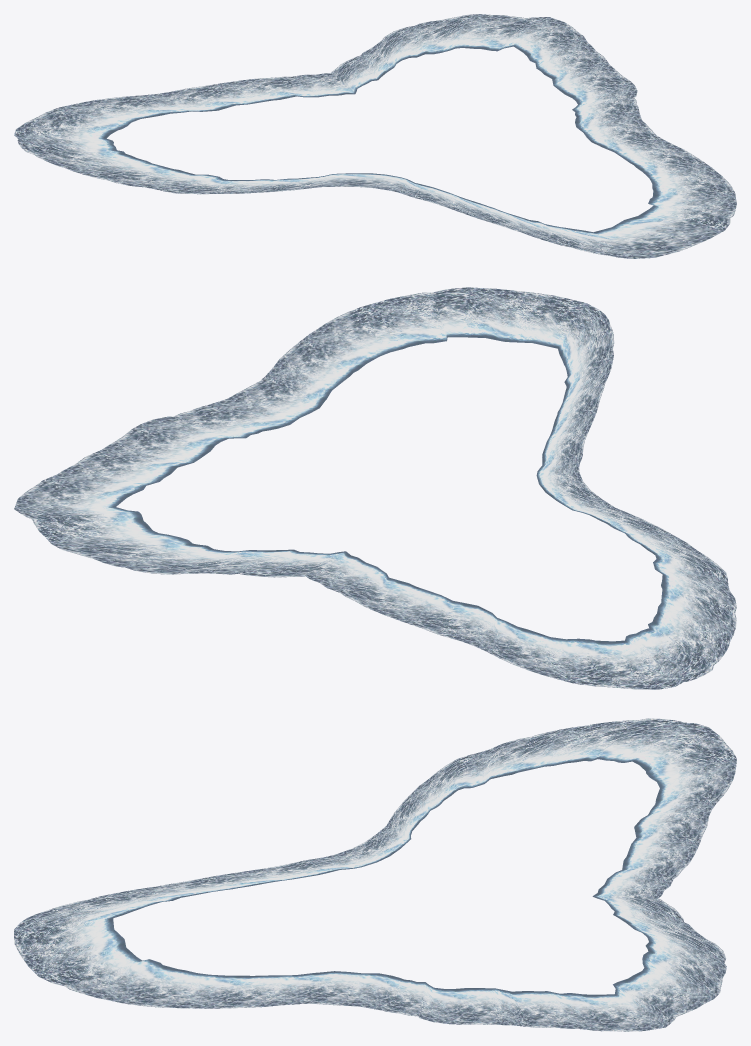
Rendered from island_02_coast.fbx.
The picture shows the model from 3 angles, top to bottom: view 1: azimuth 30°, elevation 25°; view 2: azimuth 150°, elevation 25°; view 3: azimuth 270°, elevation 25°; orthographic projection. The views are drawn at different scales.
Parts seen in each view (by area): view 1: island_02_coast; view 2: island_02_coast; view 3: island_02_coast.
Part boxes in pixels (box(x1,y1,x2,y2)): island_02_coast: box(14, 14, 736, 258); island_02_coast: box(14, 287, 736, 689); island_02_coast: box(14, 718, 736, 1031).
Bounding box in the file's own units: 95.13 × 0 × 92.81.
